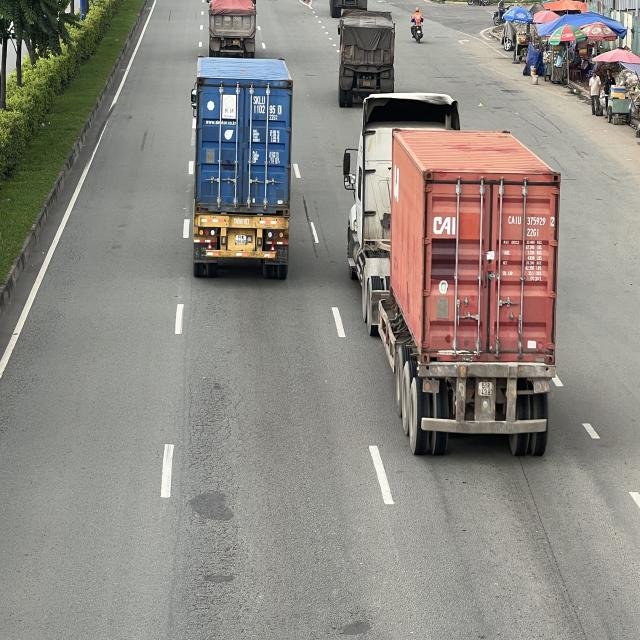container: (344, 94, 561, 448), (189, 56, 294, 274), (338, 16, 397, 108), (207, 0, 257, 55)
